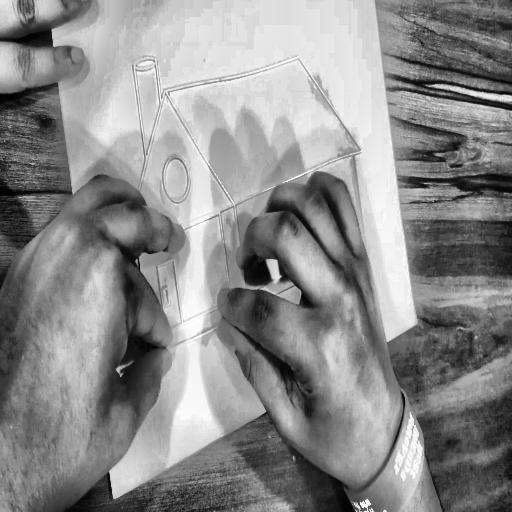bottom_left: (111, 494, 118, 505)
bottom_right: (414, 317, 421, 328)
house: (89, 4, 395, 384)
